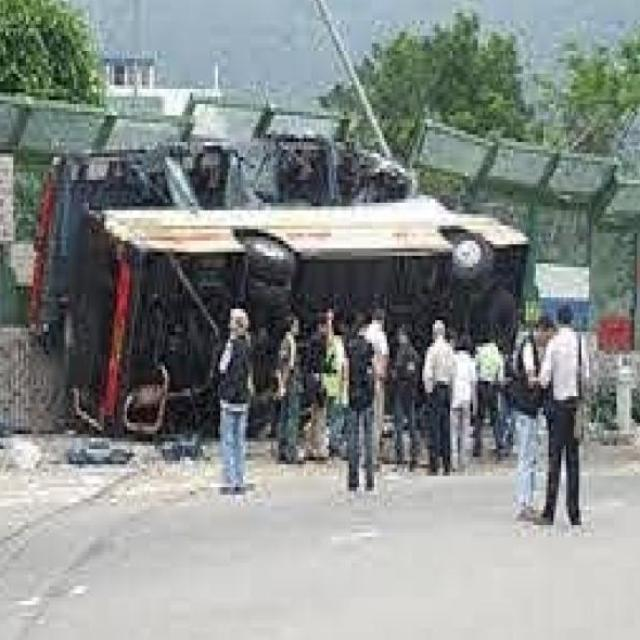accident: (30, 65, 534, 415)
